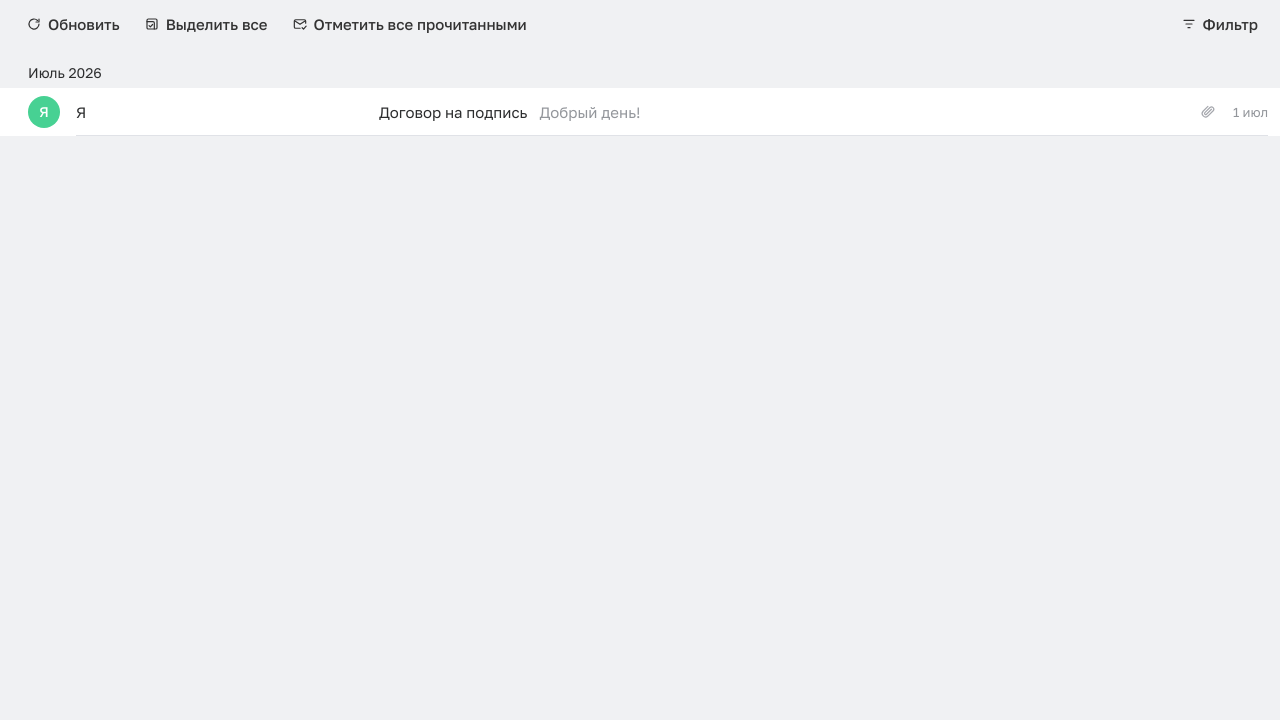
Scenario: щелчок по черновику открывает окно написания › вместо просмотра письма открывается окно с набранным письмом
The image size is (1280, 720).
Click the link to "/drafts/drafts%3A38" at (640, 112), box [0, 88, 1279, 136]
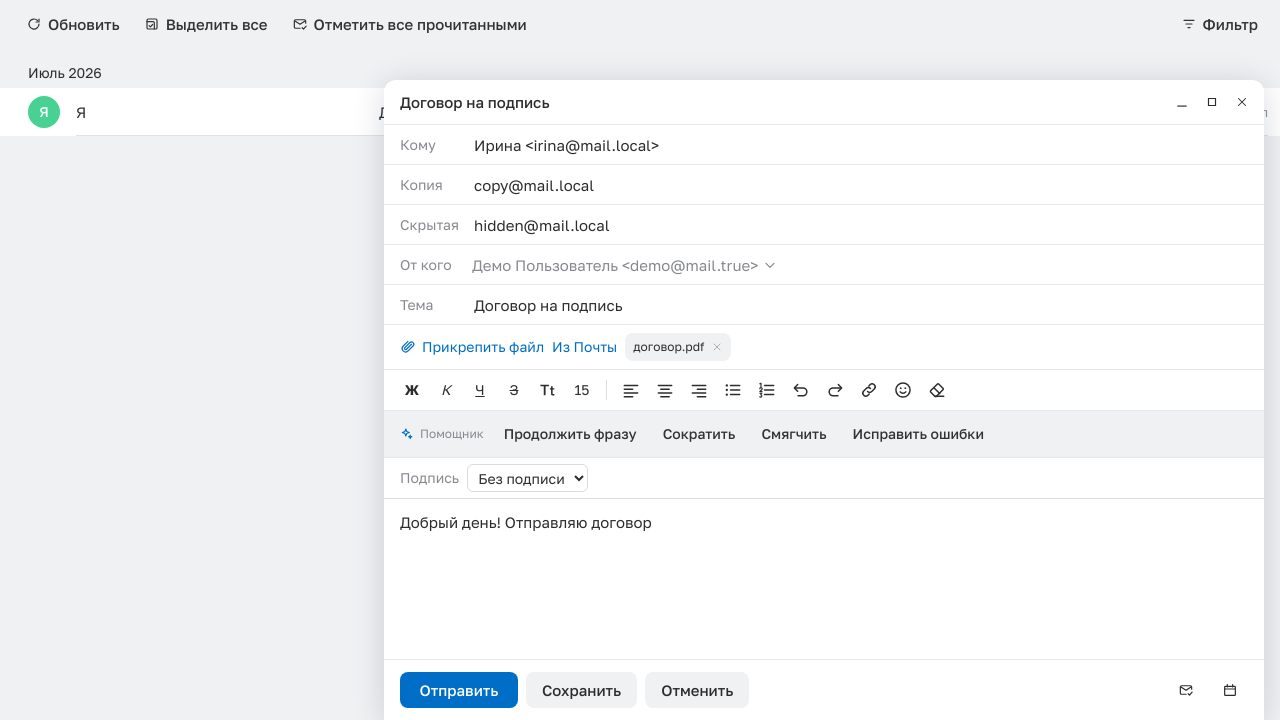
Now the field named "Текст письма" shows "Отправляю договор", box [400, 513, 652, 531]
Now the text "договор.pdf" is shown, box [633, 337, 704, 357]
Now the number of buttons named "Убрать договор.pdf" is 1, box [710, 341, 722, 353]
